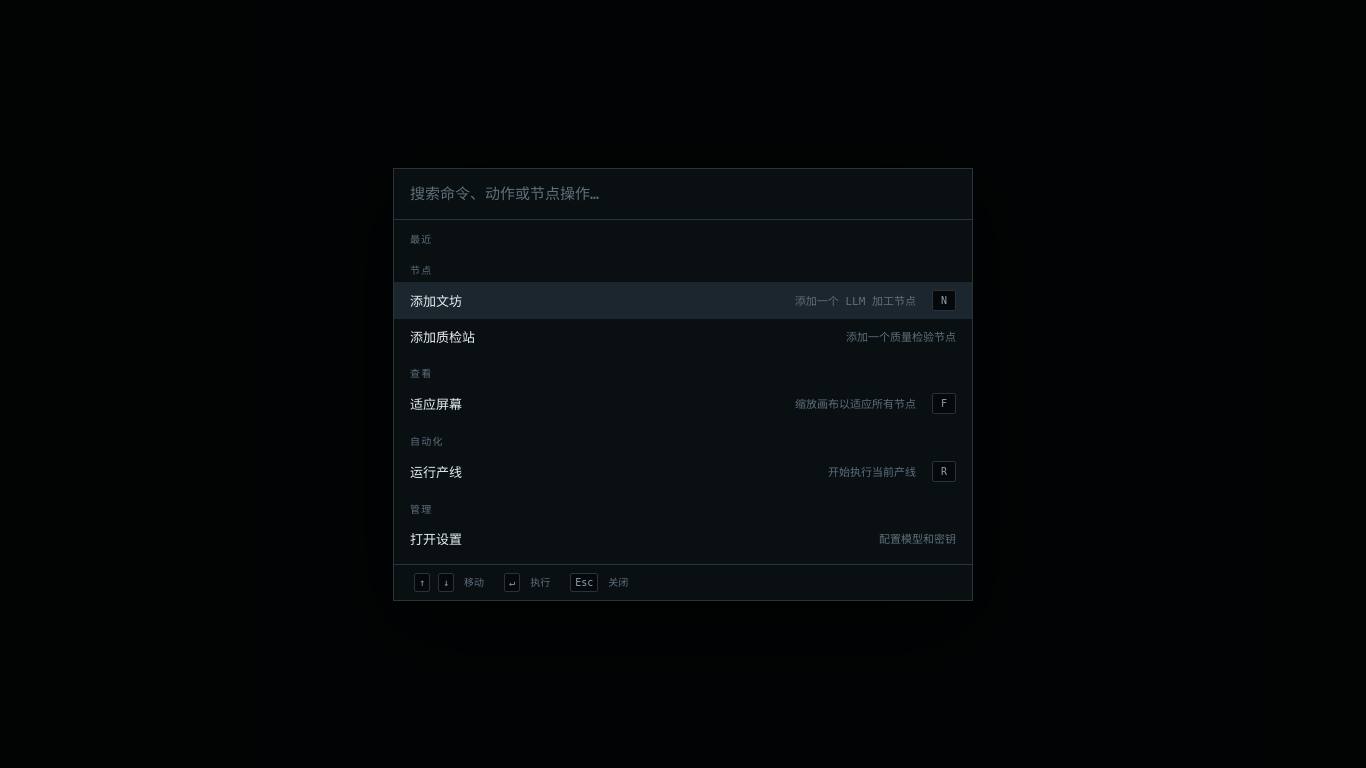
Test: CommandPalette › 搜索过滤 › 输入搜索词过滤命令
This screenshot has width=1366, height=768.
In the field with placeholder "搜索命令、动作或节点操作…": (683, 194) [394, 168, 972, 220], type "运行"
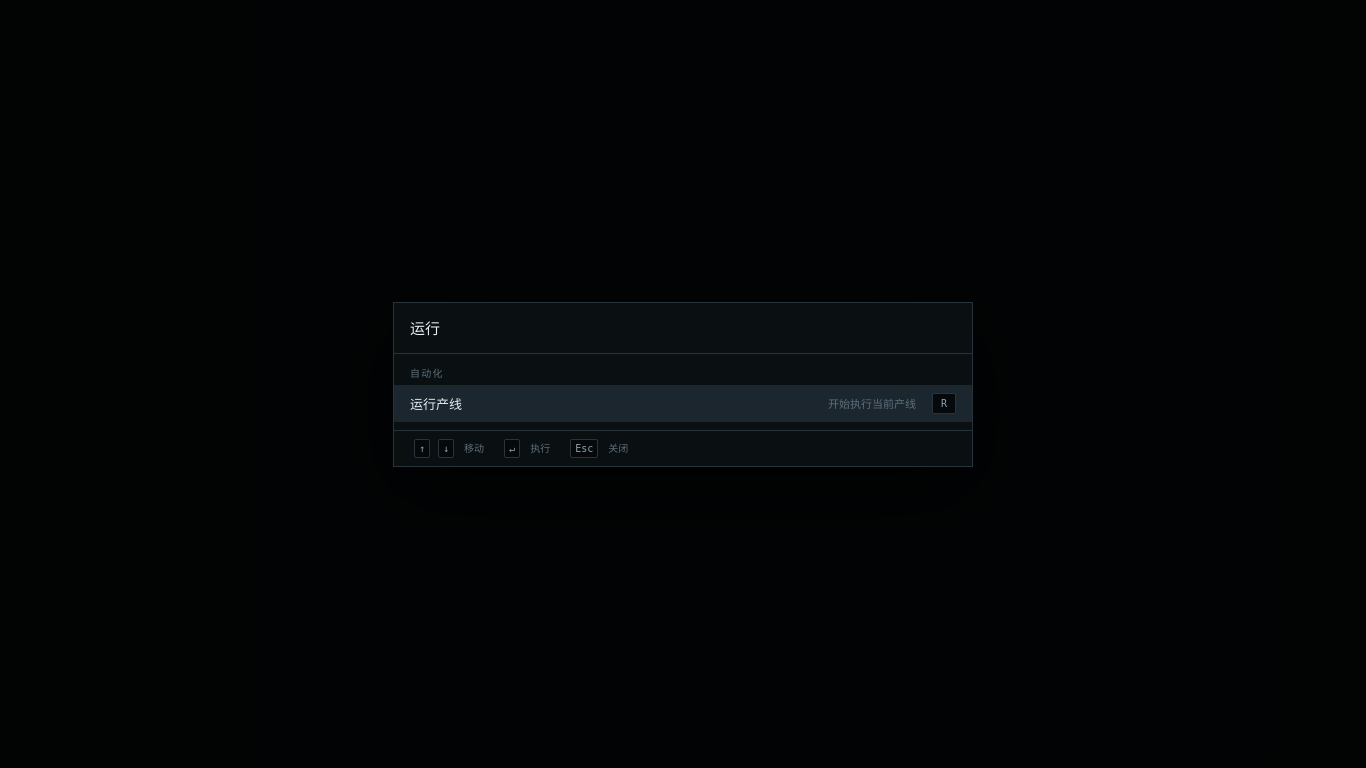
Check: the text "运行产线" is shown, box [410, 396, 462, 412]
Check: the button "添加文坊" is gone
